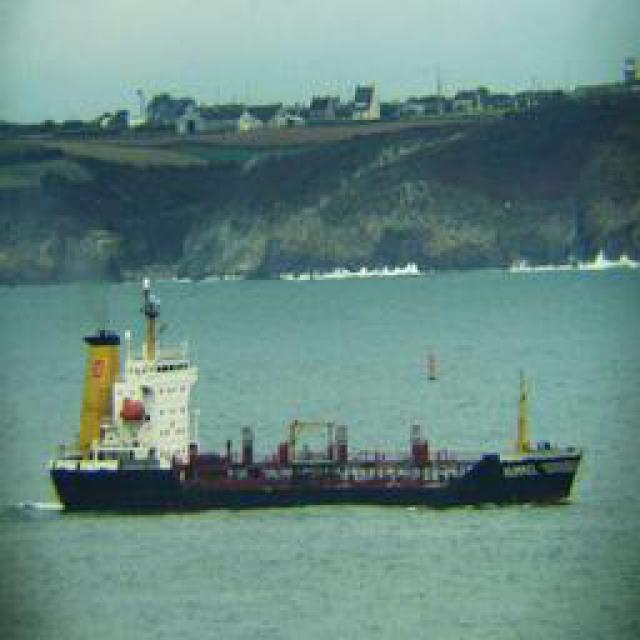Ship: (47, 431, 585, 514)
